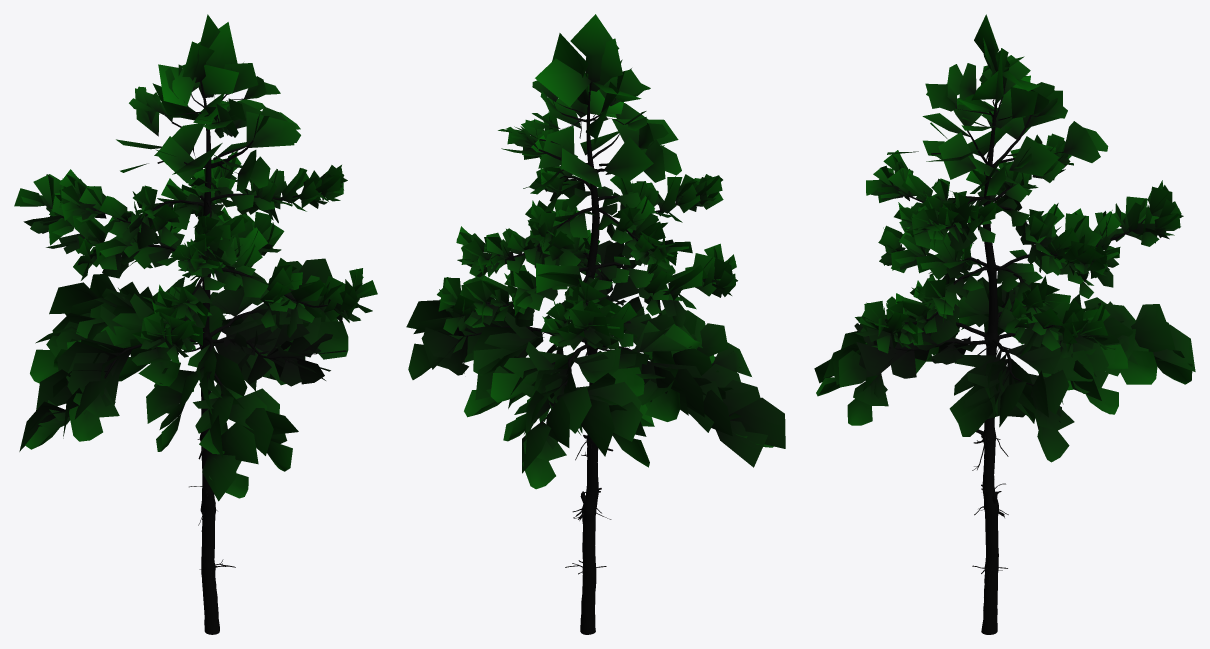
The model's file is Pine_beach_01_A.fbx.
3 views of the same model, side by side, from view 1: azimuth 30°, elevation 25°; view 2: azimuth 150°, elevation 25°; view 3: azimuth 270°, elevation 25° (orthographic).
Parts seen in each view (by area): view 1: pine_beach_01_A_LOD0; view 2: pine_beach_01_A_LOD0; view 3: pine_beach_01_A_LOD0.
Part boxes in pixels (x1,y1,x2,y2): pine_beach_01_A_LOD0: [14, 14, 377, 634]; pine_beach_01_A_LOD0: [406, 14, 785, 634]; pine_beach_01_A_LOD0: [814, 14, 1195, 634].
Size of what is drawn, in the model's own units: 484 by 823 by 463.
